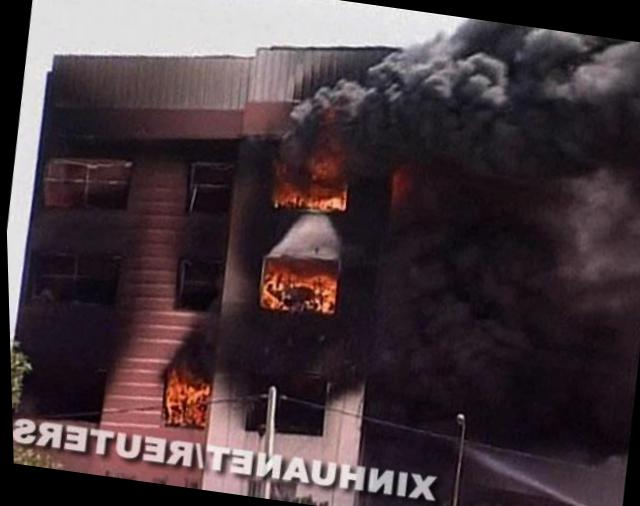fire: (259, 254, 339, 315), (160, 370, 211, 428), (272, 178, 347, 213)
